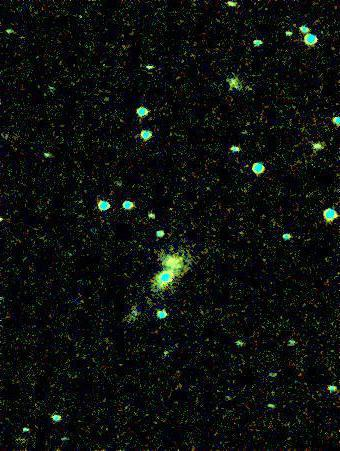star: (0, 204, 19, 234)
